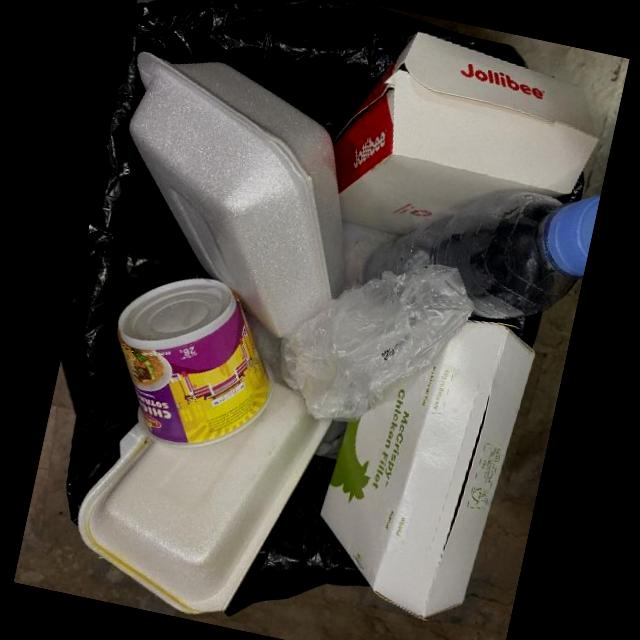carton: (319, 320, 534, 621), (321, 31, 598, 248)
chai_nhua_pet: (363, 190, 598, 321)
tui_ni_long: (279, 265, 473, 421)
xop: (76, 338, 341, 614), (128, 50, 345, 338)
